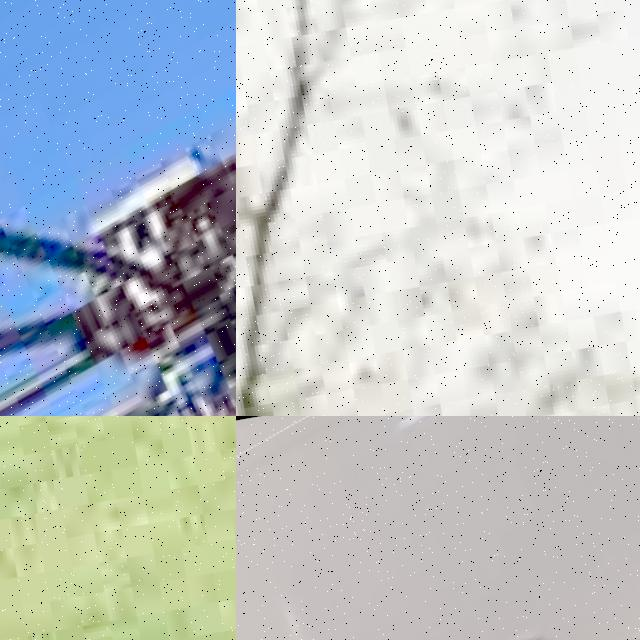0: (0, 0, 236, 416)
drone: (236, 416, 640, 640)
